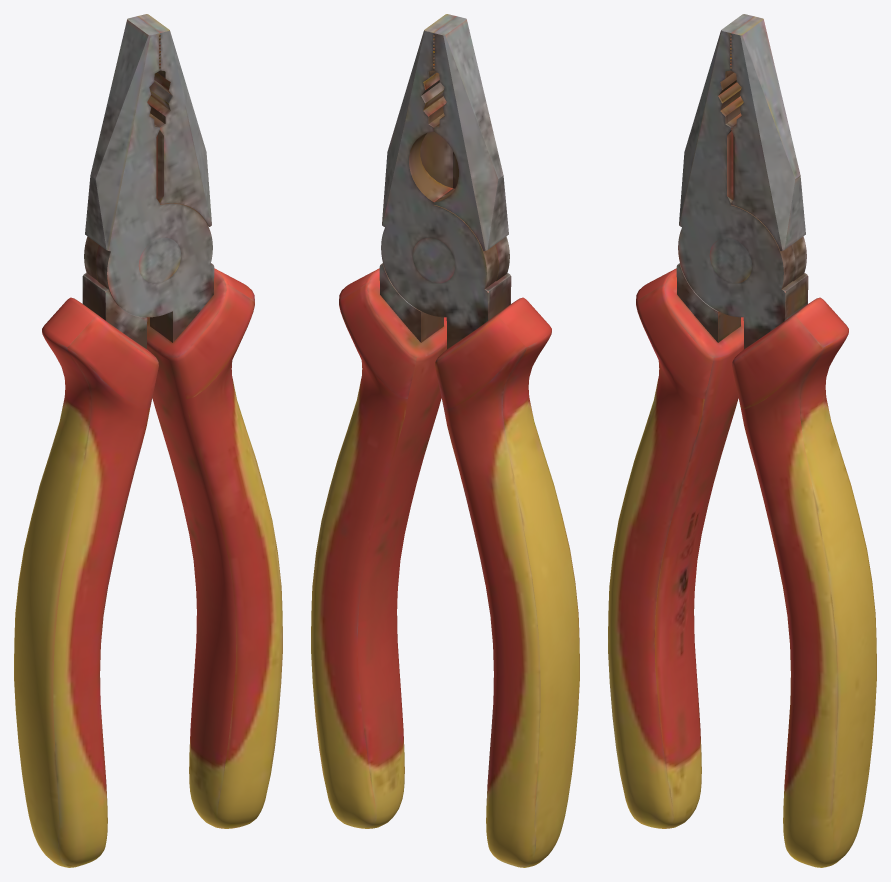
The model's file is pliers.glb.
3 views of the same model, side by side, from view 1: azimuth 30°, elevation 25°; view 2: azimuth 150°, elevation 25°; view 3: azimuth 330°, elevation 25° (orthographic).
Visible parts, largest first — view 1: pliers_b; view 2: pliers_b; view 3: pliers_b.
Boxes of the visible parts, x1,y1,x2,y2 form: pliers_b: (14,14,282,867); pliers_b: (311,14,579,867); pliers_b: (608,14,876,867).
Size of the model in its own units: 0.0553 by 0.1798 by 0.018.
1 material, 1 textured.
